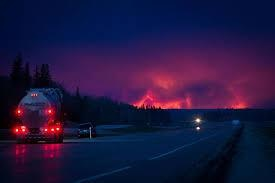fire: (129, 92, 190, 110)
